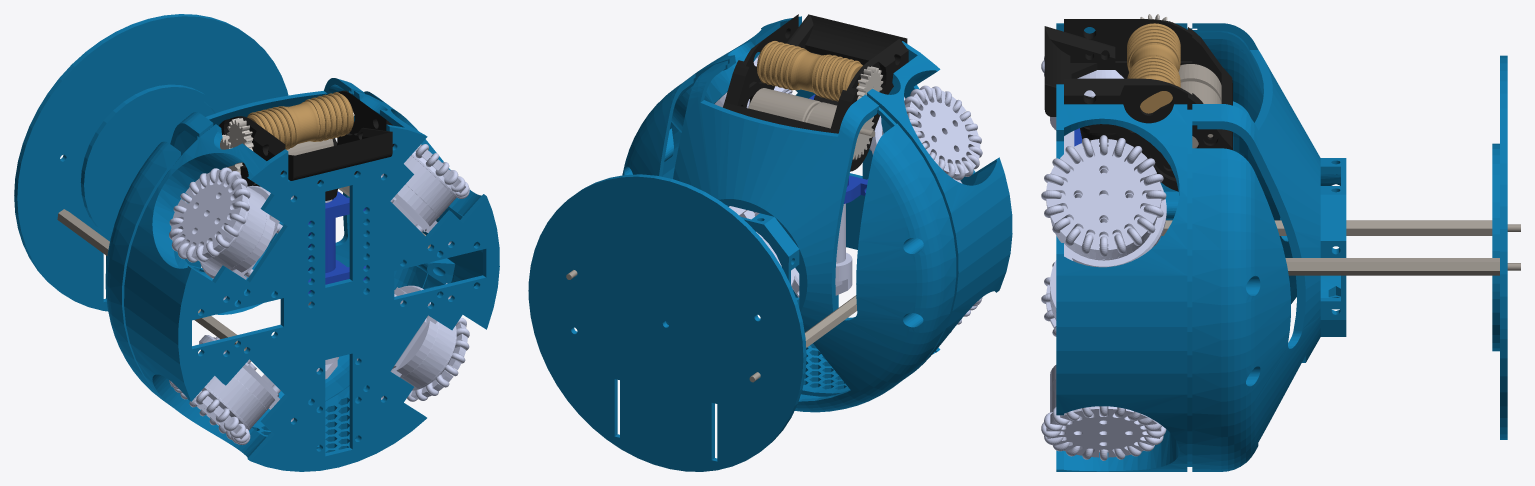
The model's file is blue.dae.
3 renders of one model, left to right at view 1: azimuth 30°, elevation 25°; view 2: azimuth 150°, elevation 25°; view 3: azimuth 270°, elevation 25°, orthographic. The views are drawn at different scales.
Parts seen in each view (by area): view 1: node_f4a15c23_c8f0_4c22_a398_53768347f770_mesh0, node_9a743ee1_1714_494f_9ef3_a897d01c9f3c_mesh0, node_91e10abd_1f8c_4f07_8781_cb6e600f99ba_mesh0, node_309d41bd_9d34_40cd_a39b_299bc38cecd6_mesh0, node_17fa7090_9577_46fa_b5b4_5a970e159a86_mesh0, node_8506adb7_0560_413b_b9ab_776391042eac_mesh0, node_2ea4e69f_6492_4c01_9f96_ffc9ac943a1c_mesh0, node_130c0adc_5624_47cf_9df9_4f0a27608023_mesh0, node_968df9b0_deb0_4dff_90e9_7a428141e90d_mesh0, node_82170708_5635_4728_ac9a_79912ce70e56_mesh0, node_883c9a93_cba8_4826_be79_36dd7c6ed728_mesh0, node_afcfd0f5_5ccd_41e0_83e0_86188b9c0a31_mesh0 (+5 smaller); view 2: node_9a743ee1_1714_494f_9ef3_a897d01c9f3c_mesh0, node_91e10abd_1f8c_4f07_8781_cb6e600f99ba_mesh0, node_f4a15c23_c8f0_4c22_a398_53768347f770_mesh0, node_883c9a93_cba8_4826_be79_36dd7c6ed728_mesh0, node_309d41bd_9d34_40cd_a39b_299bc38cecd6_mesh0, node_17fa7090_9577_46fa_b5b4_5a970e159a86_mesh0, node_968df9b0_deb0_4dff_90e9_7a428141e90d_mesh0, node_348d977d_4e3c_4d76_95dd_9fcff52cdc74_mesh0, node_5ed251b0_5bd8_4734_b9ea_e3e98f59850d_mesh0, node_0ef17523_92c1_4c29_81a8_3cdd053e6990_mesh0, node_d10fe970_c97f_428a_b161_75aa097c59d5_mesh0, node_8506adb7_0560_413b_b9ab_776391042eac_mesh0; view 3: node_91e10abd_1f8c_4f07_8781_cb6e600f99ba_mesh0, node_f4a15c23_c8f0_4c22_a398_53768347f770_mesh0, node_ef825933_aef7_4fc4_8e6d_9bd397f4304e_mesh0, node_883c9a93_cba8_4826_be79_36dd7c6ed728_mesh0, node_44f23a4b_a9d2_4c3e_9fed_8f737fd74727_mesh0, node_9a743ee1_1714_494f_9ef3_a897d01c9f3c_mesh0, node_076ec8b8_5f64_446b_85f9_01d5c737abc2_mesh0, node_17fa7090_9577_46fa_b5b4_5a970e159a86_mesh0, node_968df9b0_deb0_4dff_90e9_7a428141e90d_mesh0, node_82170708_5635_4728_ac9a_79912ce70e56_mesh0, node_5ed251b0_5bd8_4734_b9ea_e3e98f59850d_mesh0, node_348d977d_4e3c_4d76_95dd_9fcff52cdc74_mesh0.
Boxes of the visible parts, x1,y1,x2,y2 form: node_f4a15c23_c8f0_4c22_a398_53768347f770_mesh0: (124,90,499,471); node_9a743ee1_1714_494f_9ef3_a897d01c9f3c_mesh0: (14,14,288,311); node_91e10abd_1f8c_4f07_8781_cb6e600f99ba_mesh0: (105,78,427,422); node_309d41bd_9d34_40cd_a39b_299bc38cecd6_mesh0: (169,167,250,262); node_17fa7090_9577_46fa_b5b4_5a970e159a86_mesh0: (247,92,353,149); node_8506adb7_0560_413b_b9ab_776391042eac_mesh0: (357,283,456,399); node_2ea4e69f_6492_4c01_9f96_ffc9ac943a1c_mesh0: (198,185,293,300); node_130c0adc_5624_47cf_9df9_4f0a27608023_mesh0: (198,335,293,430); node_968df9b0_deb0_4dff_90e9_7a428141e90d_mesh0: (288,127,392,180); node_82170708_5635_4728_ac9a_79912ce70e56_mesh0: (381,151,456,245); node_883c9a93_cba8_4826_be79_36dd7c6ed728_mesh0: (219,90,394,186); node_afcfd0f5_5ccd_41e0_83e0_86188b9c0a31_mesh0: (308,191,366,293); node_9a743ee1_1714_494f_9ef3_a897d01c9f3c_mesh0: (528,174,806,471); node_91e10abd_1f8c_4f07_8781_cb6e600f99ba_mesh0: (622,60,956,412); node_f4a15c23_c8f0_4c22_a398_53768347f770_mesh0: (662,16,1012,396); node_883c9a93_cba8_4826_be79_36dd7c6ed728_mesh0: (723,14,908,171); node_309d41bd_9d34_40cd_a39b_299bc38cecd6_mesh0: (904,85,982,180); node_17fa7090_9577_46fa_b5b4_5a970e159a86_mesh0: (757,41,862,101); node_968df9b0_deb0_4dff_90e9_7a428141e90d_mesh0: (786,14,907,64); node_348d977d_4e3c_4d76_95dd_9fcff52cdc74_mesh0: (748,88,874,136); node_5ed251b0_5bd8_4734_b9ea_e3e98f59850d_mesh0: (749,295,856,382); node_0ef17523_92c1_4c29_81a8_3cdd053e6990_mesh0: (835,252,852,295); node_d10fe970_c97f_428a_b161_75aa097c59d5_mesh0: (856,66,883,100); node_8506adb7_0560_413b_b9ab_776391042eac_mesh0: (729,206,799,297); node_91e10abd_1f8c_4f07_8781_cb6e600f99ba_mesh0: (1192,23,1346,471); node_f4a15c23_c8f0_4c22_a398_53768347f770_mesh0: (1056,23,1192,471); node_ef825933_aef7_4fc4_8e6d_9bd397f4304e_mesh0: (1041,135,1166,256); node_883c9a93_cba8_4826_be79_36dd7c6ed728_mesh0: (1064,19,1232,191); node_44f23a4b_a9d2_4c3e_9fed_8f737fd74727_mesh0: (1041,406,1166,460); node_9a743ee1_1714_494f_9ef3_a897d01c9f3c_mesh0: (1492,55,1507,439); node_076ec8b8_5f64_446b_85f9_01d5c737abc2_mesh0: (1285,258,1520,275); node_17fa7090_9577_46fa_b5b4_5a970e159a86_mesh0: (1127,23,1180,113); node_968df9b0_deb0_4dff_90e9_7a428141e90d_mesh0: (1044,26,1115,116); node_82170708_5635_4728_ac9a_79912ce70e56_mesh0: (1050,131,1166,267); node_5ed251b0_5bd8_4734_b9ea_e3e98f59850d_mesh0: (1161,220,1520,235); node_348d977d_4e3c_4d76_95dd_9fcff52cdc74_mesh0: (1178,64,1221,148).
Size of the model in its own units: 0.175 by 0.1735 by 0.187.
